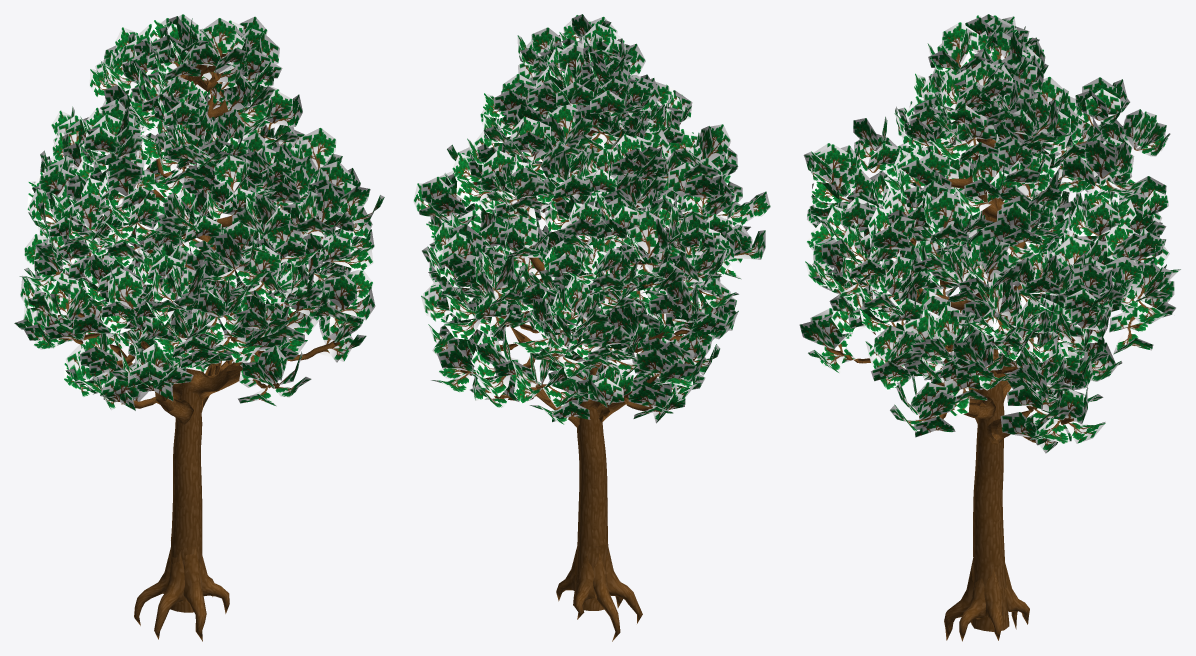
The model's file is v2-big-export.fbx.
3 renders of one model, left to right at view 1: azimuth 30°, elevation 25°; view 2: azimuth 150°, elevation 25°; view 3: azimuth 270°, elevation 25°, orthographic. The views are drawn at different scales.
Visible parts, largest first — view 1: MainTrunk, Stump; view 2: MainTrunk, Stump; view 3: MainTrunk, Stump.
Part boxes in pixels (x1,y1,x2,y2): MainTrunk: [14, 14, 384, 547]; Stump: [134, 542, 229, 641]; MainTrunk: [413, 14, 770, 545]; Stump: [556, 541, 642, 641]; MainTrunk: [799, 14, 1180, 564]; Stump: [944, 558, 1029, 641].
Size of the model in its own units: 1218 by 2227 by 1225.
